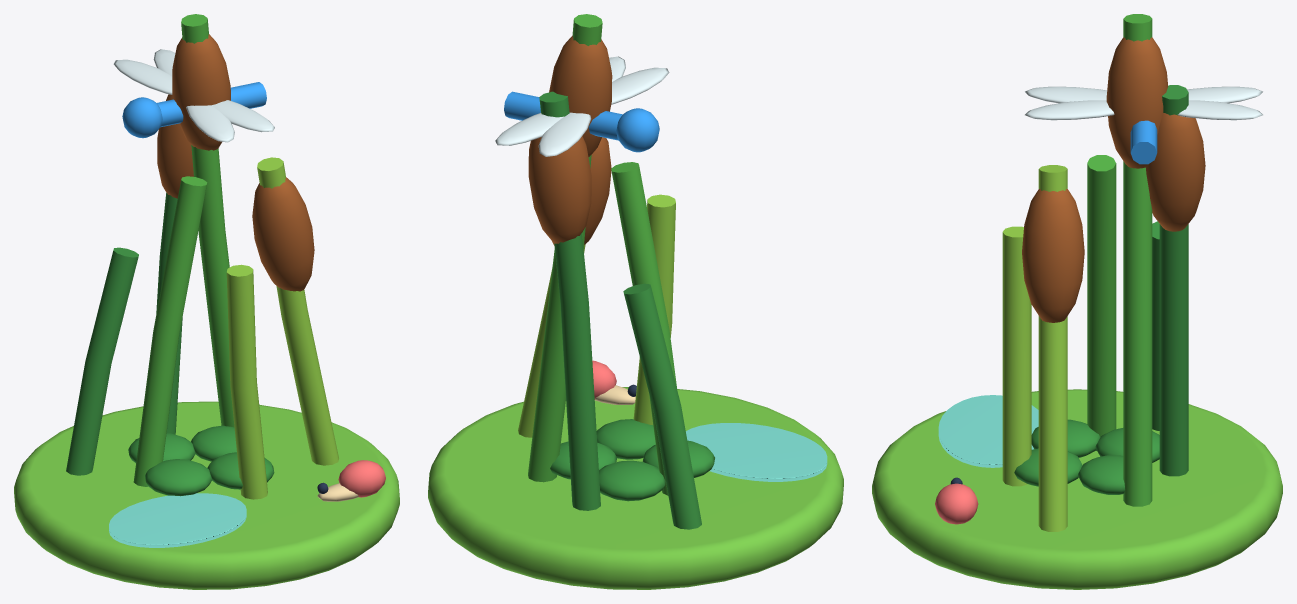
File: DecorReeds.fbx
3 views of the same model, side by side, from view 1: azimuth 30°, elevation 25°; view 2: azimuth 150°, elevation 25°; view 3: azimuth 270°, elevation 25° (orthographic). The views are drawn at different scales.
Visible parts, largest first — view 1: DecorReeds mesh; view 2: DecorReeds mesh; view 3: DecorReeds mesh.
Boxes of the visible parts, x1=… form: DecorReeds mesh: x1=14, y1=14, x2=399, y2=589; DecorReeds mesh: x1=428, y1=14, x2=843, y2=589; DecorReeds mesh: x1=872, y1=14, x2=1282, y2=589.
Bounding box in the file's own units: 0.34 × 0.456 × 0.34.
